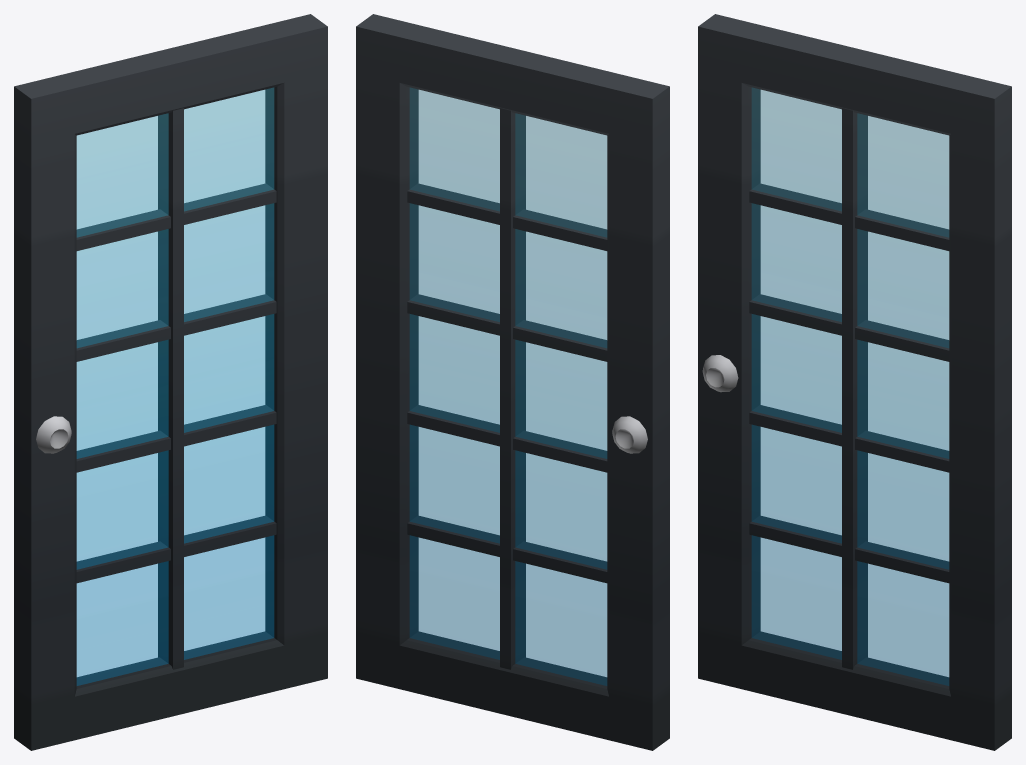
The model's file is Door_Black_06.glb.
3 views of the same model, side by side, from view 1: azimuth 30°, elevation 25°; view 2: azimuth 150°, elevation 25°; view 3: azimuth 330°, elevation 25° (orthographic).
Visible parts, largest first — view 1: Door_Black_06; view 2: Door_Black_06; view 3: Door_Black_06.
Boxes of the visible parts, x1,y1,x2,y2 form: Door_Black_06: (14,14,327,750); Door_Black_06: (356,14,669,750); Door_Black_06: (698,14,1011,750).
Bounding box in the file's own units: 1 × 2.1 × 0.1634.
2 materials, 2 textured.
